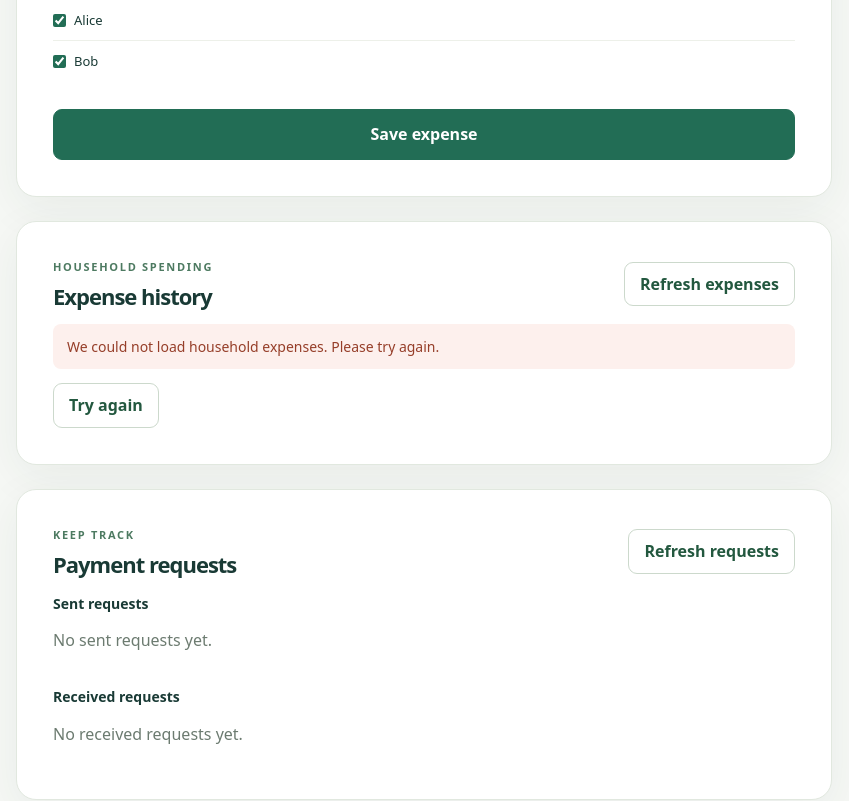
Test: expense history and details › shows a recoverable history failure
(page scrolled)
Expected: the message shows "We could not load household expenses.", [67, 337, 439, 356]
Click the button "Try again": (106, 406) [53, 383, 159, 428]
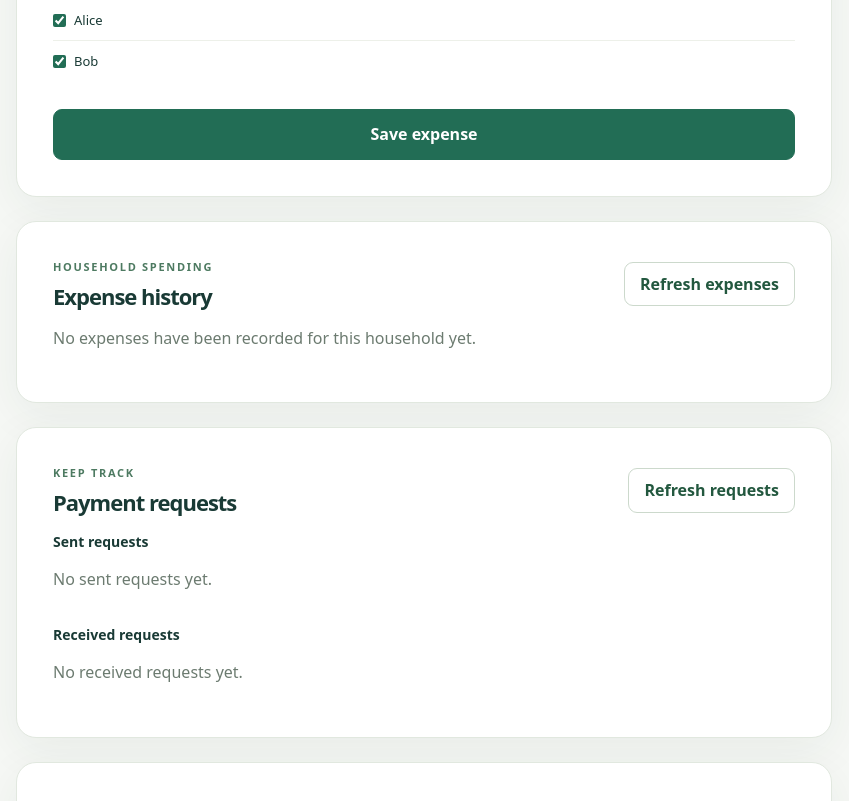
Expected: the text "No expenses have been recorded for this household yet." is shown, [53, 327, 476, 349]
